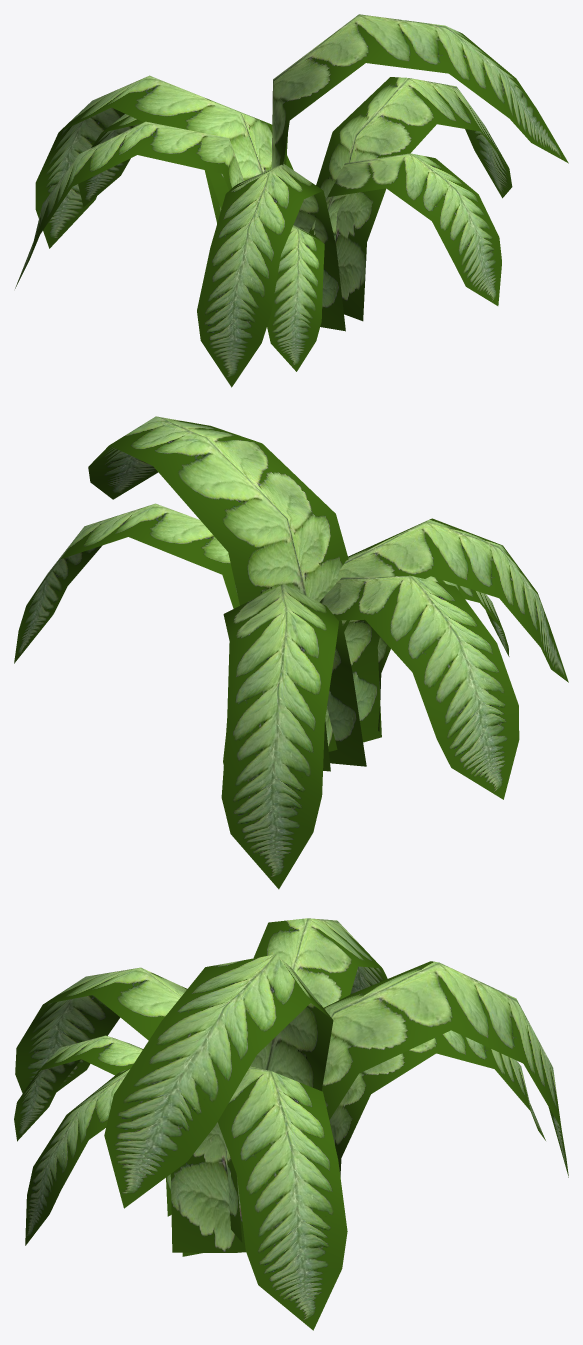
The model's file is fern.fbx.
3 views of the same model, one above another, from view 1: azimuth 30°, elevation 25°; view 2: azimuth 150°, elevation 25°; view 3: azimuth 270°, elevation 25° (orthographic). The views are drawn at different scales.
Visible parts, largest first — view 1: bush fern joined; view 2: bush fern joined; view 3: bush fern joined.
Part boxes in pixels (bbox=[...]): bush fern joined: bbox=[15, 14, 568, 387]; bush fern joined: bbox=[14, 416, 568, 889]; bush fern joined: bbox=[14, 918, 568, 1330].
Bounding box in the file's own units: 152 × 86.87 × 129.
1 material, 1 textured.
